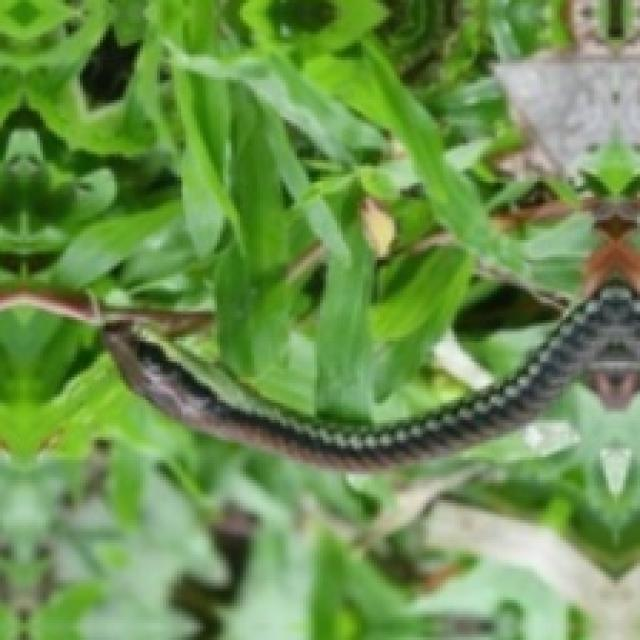philippine bronzeback treesnake: (103, 286, 637, 469)
